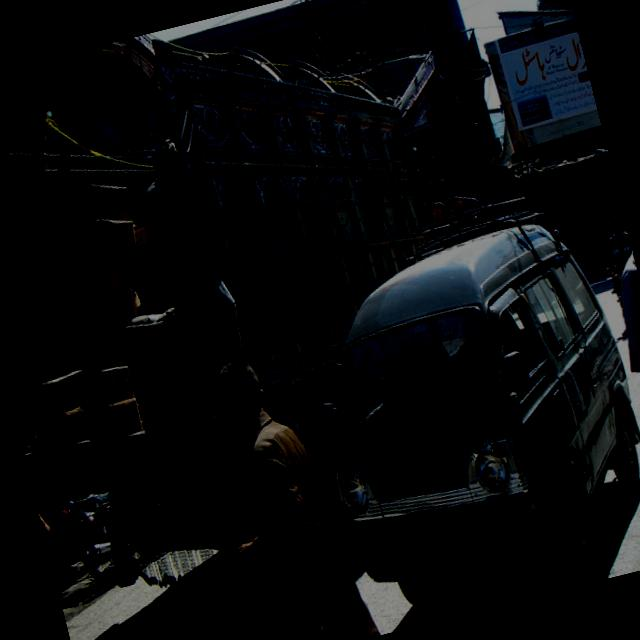Vehicle: (0, 0, 543, 629), (279, 181, 640, 636), (55, 486, 129, 593), (600, 253, 632, 318)
